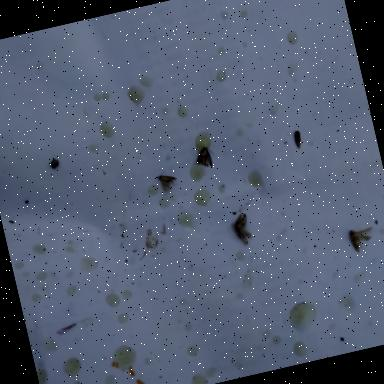pbw: (348, 225, 377, 254), (193, 145, 216, 170), (156, 169, 178, 192)
